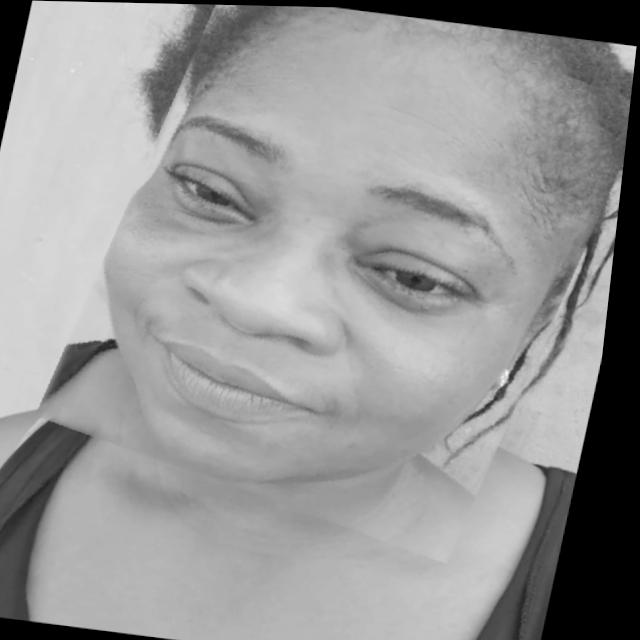happy: (48, 2, 640, 550)
